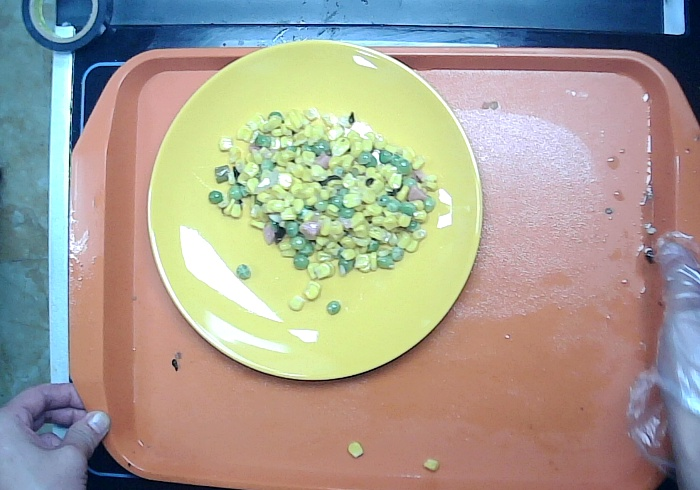HZYJPL-Huang_Se_Yuan_Pan: (146, 36, 484, 382)
